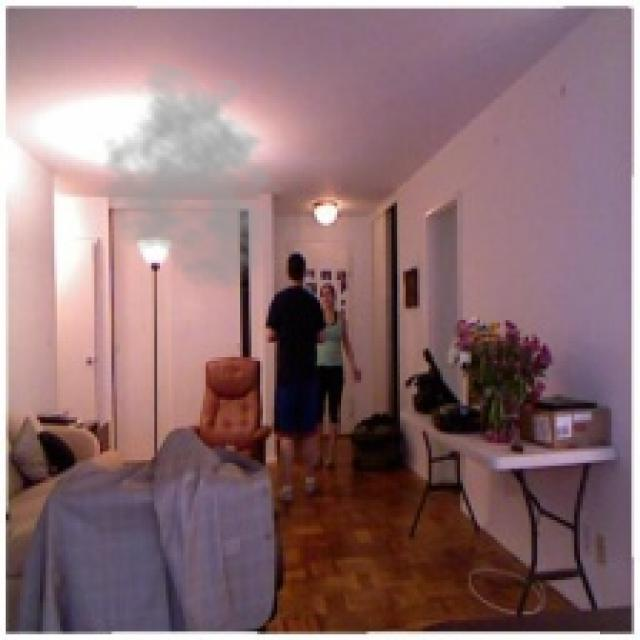Smoke: (94, 60, 294, 292)
